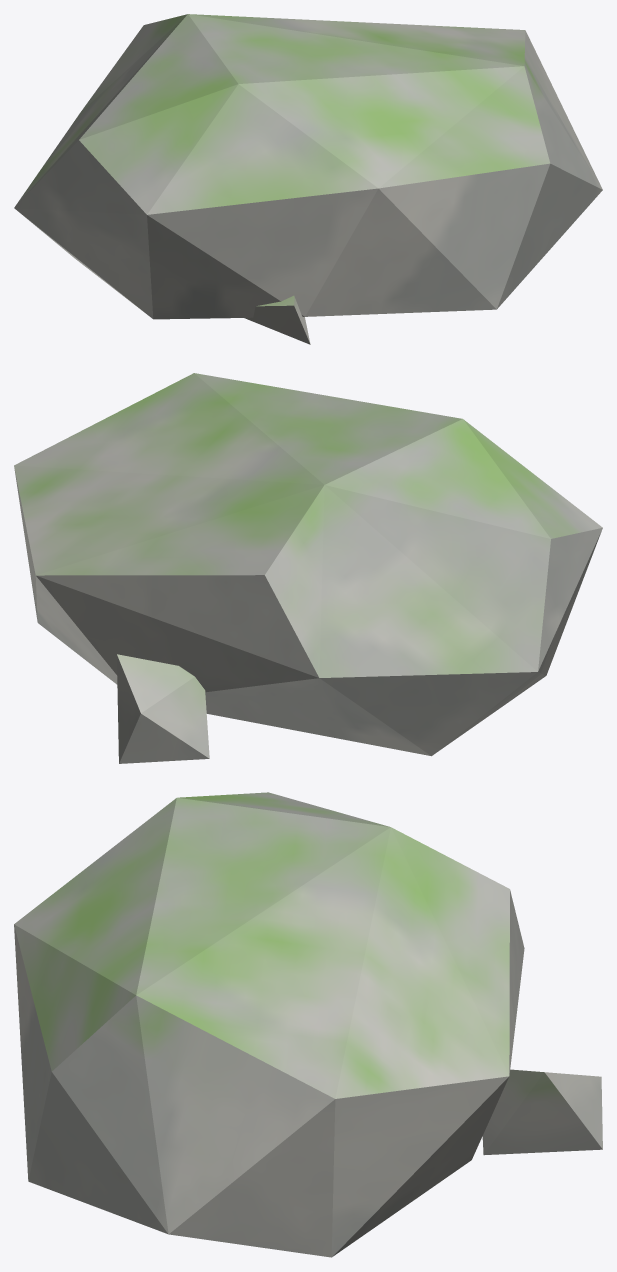
Rendered from rock_a_lod1.gltf.
3 views of the same model, one above another, from view 1: azimuth 30°, elevation 25°; view 2: azimuth 150°, elevation 25°; view 3: azimuth 270°, elevation 25° (orthographic). The views are drawn at different scales.
Parts seen in each view (by area): view 1: rock_a_LOD1; view 2: rock_a_LOD1; view 3: rock_a_LOD1.
Part boxes in pixels (left/top/right/bottom): rock_a_LOD1: left=14, top=14, right=602, bottom=344; rock_a_LOD1: left=14, top=373, right=602, bottom=763; rock_a_LOD1: left=14, top=792, right=602, bottom=1257.
Bounding box in the file's own units: 1.43 × 0.6159 × 1.21.
1 material, 1 textured.
